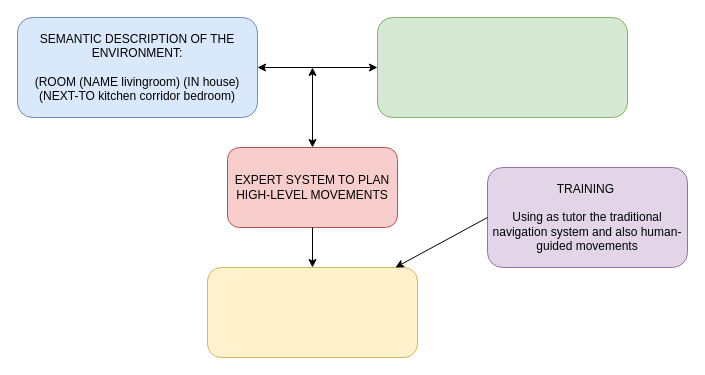
Image size: 705x375. Some labels were removed from this diagram. The shapes that lost their labels are listed below. From the top down, each one's centre as x and y in pixels, then its label:
At (x=502, y=67): "SEMANTIC LOCALIZATION Recognizing the most common objects in a room".
At (x=312, y=312): "REACTIVE BEHAVIORS Implemented using RL or DNN".
